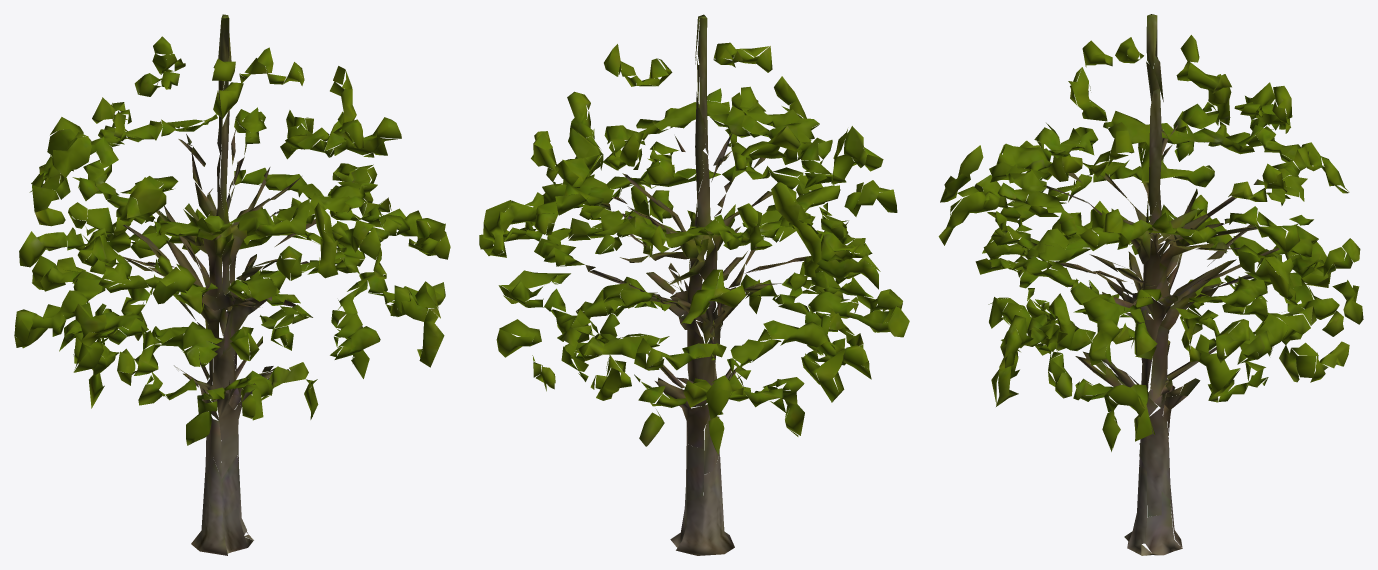
File: tree.glb
3 renders of one model, left to right at view 1: azimuth 30°, elevation 25°; view 2: azimuth 150°, elevation 25°; view 3: azimuth 270°, elevation 25°, orthographic.
Parts seen in each view (by area): view 1: tripo_node_160f6e21-59b9-4833-9f4d-5cc0ac183746; view 2: tripo_node_160f6e21-59b9-4833-9f4d-5cc0ac183746; view 3: tripo_node_160f6e21-59b9-4833-9f4d-5cc0ac183746.
Boxes of the visible parts, x1=… form: tripo_node_160f6e21-59b9-4833-9f4d-5cc0ac183746: x1=14, y1=14, x2=450, y2=555; tripo_node_160f6e21-59b9-4833-9f4d-5cc0ac183746: x1=479, y1=14, x2=909, y2=555; tripo_node_160f6e21-59b9-4833-9f4d-5cc0ac183746: x1=938, y1=14, x2=1363, y2=555.
Size of the model in its own units: 0.7635 by 1 by 0.7273.
1 material, 1 textured.
